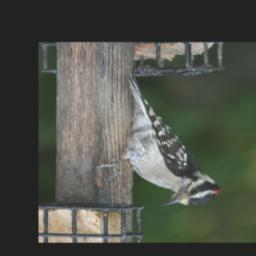Woodpecker: (95, 73, 220, 207)
